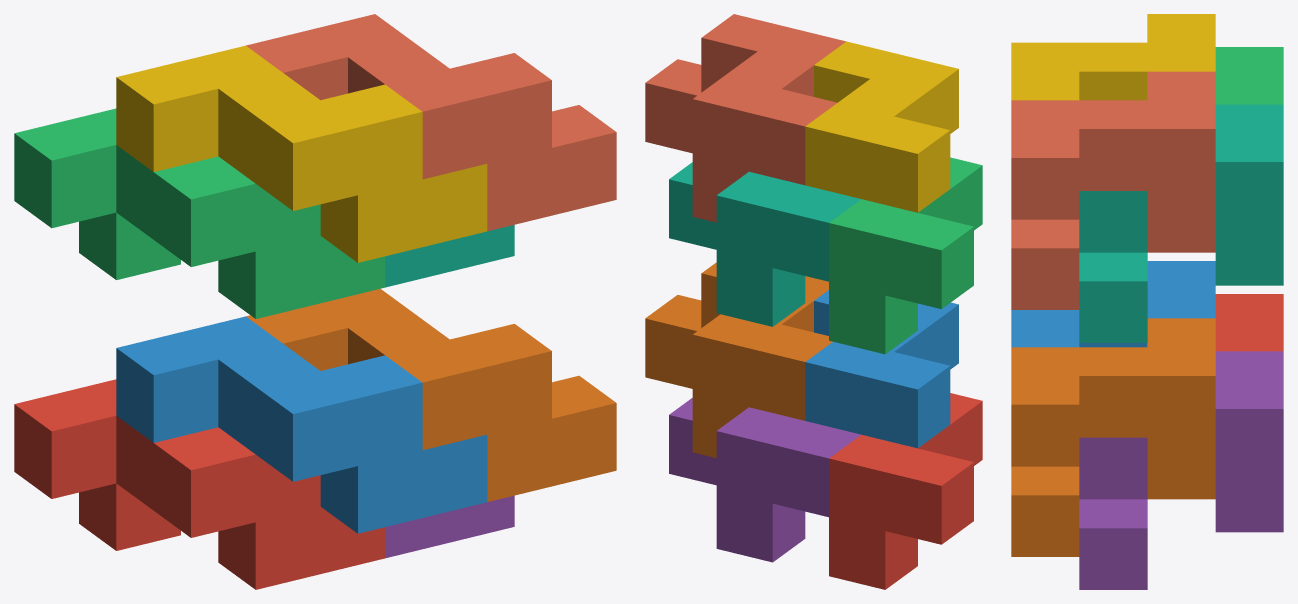
File: tiling.obj
3 views of the same model, side by side, from view 1: azimuth 30°, elevation 25°; view 2: azimuth 150°, elevation 25°; view 3: azimuth 270°, elevation 25° (orthographic). The views are drawn at different scales.
Visible parts, largest first — view 1: copy_1_domain_2, copy_1_domain_4, copy_1_domain_3, copy_1_domain_1, copy_1_domain_8, copy_1_domain_6, copy_1_domain_7, copy_1_domain_5; view 2: copy_1_domain_8, copy_1_domain_4, copy_1_domain_3, copy_1_domain_1, copy_1_domain_6, copy_1_domain_7, copy_1_domain_5, copy_1_domain_2; view 3: copy_1_domain_8, copy_1_domain_6, copy_1_domain_5, copy_1_domain_7, copy_1_domain_4, copy_1_domain_2, copy_1_domain_3, copy_1_domain_1.
Boxes of the visible parts, <box> form: copy_1_domain_2: <box>116,316,487,533</box>; copy_1_domain_4: <box>116,45,487,262</box>; copy_1_domain_3: <box>14,108,385,318</box>; copy_1_domain_1: <box>14,379,385,589</box>; copy_1_domain_8: <box>246,14,616,231</box>; copy_1_domain_6: <box>246,288,616,501</box>; copy_1_domain_7: <box>385,225,514,287</box>; copy_1_domain_5: <box>385,495,514,558</box>; copy_1_domain_8: <box>645,14,845,222</box>; copy_1_domain_4: <box>805,41,958,212</box>; copy_1_domain_3: <box>829,157,982,354</box>; copy_1_domain_1: <box>829,393,982,589</box>; copy_1_domain_6: <box>645,262,832,457</box>; copy_1_domain_7: <box>669,162,861,326</box>; copy_1_domain_5: <box>669,398,860,562</box>; copy_1_domain_2: <box>805,290,958,448</box>; copy_1_domain_8: <box>1011,71,1215,309</box>; copy_1_domain_6: <box>1011,318,1215,556</box>; copy_1_domain_5: <box>1079,351,1283,589</box>; copy_1_domain_7: <box>1079,104,1283,342</box>; copy_1_domain_4: <box>1011,14,1215,100</box>; copy_1_domain_2: <box>1011,261,1215,347</box>; copy_1_domain_3: <box>1215,47,1283,104</box>; copy_1_domain_1: <box>1215,294,1283,351</box>.
Size of the model in its own units: 7 by 7 by 4.
